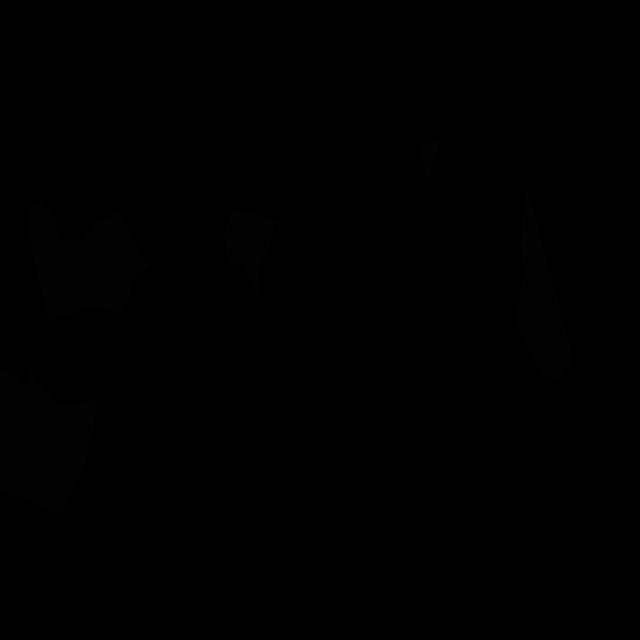cardboard: (0, 367, 99, 516), (28, 204, 150, 320), (514, 182, 574, 381), (224, 208, 286, 297), (418, 137, 442, 183)
